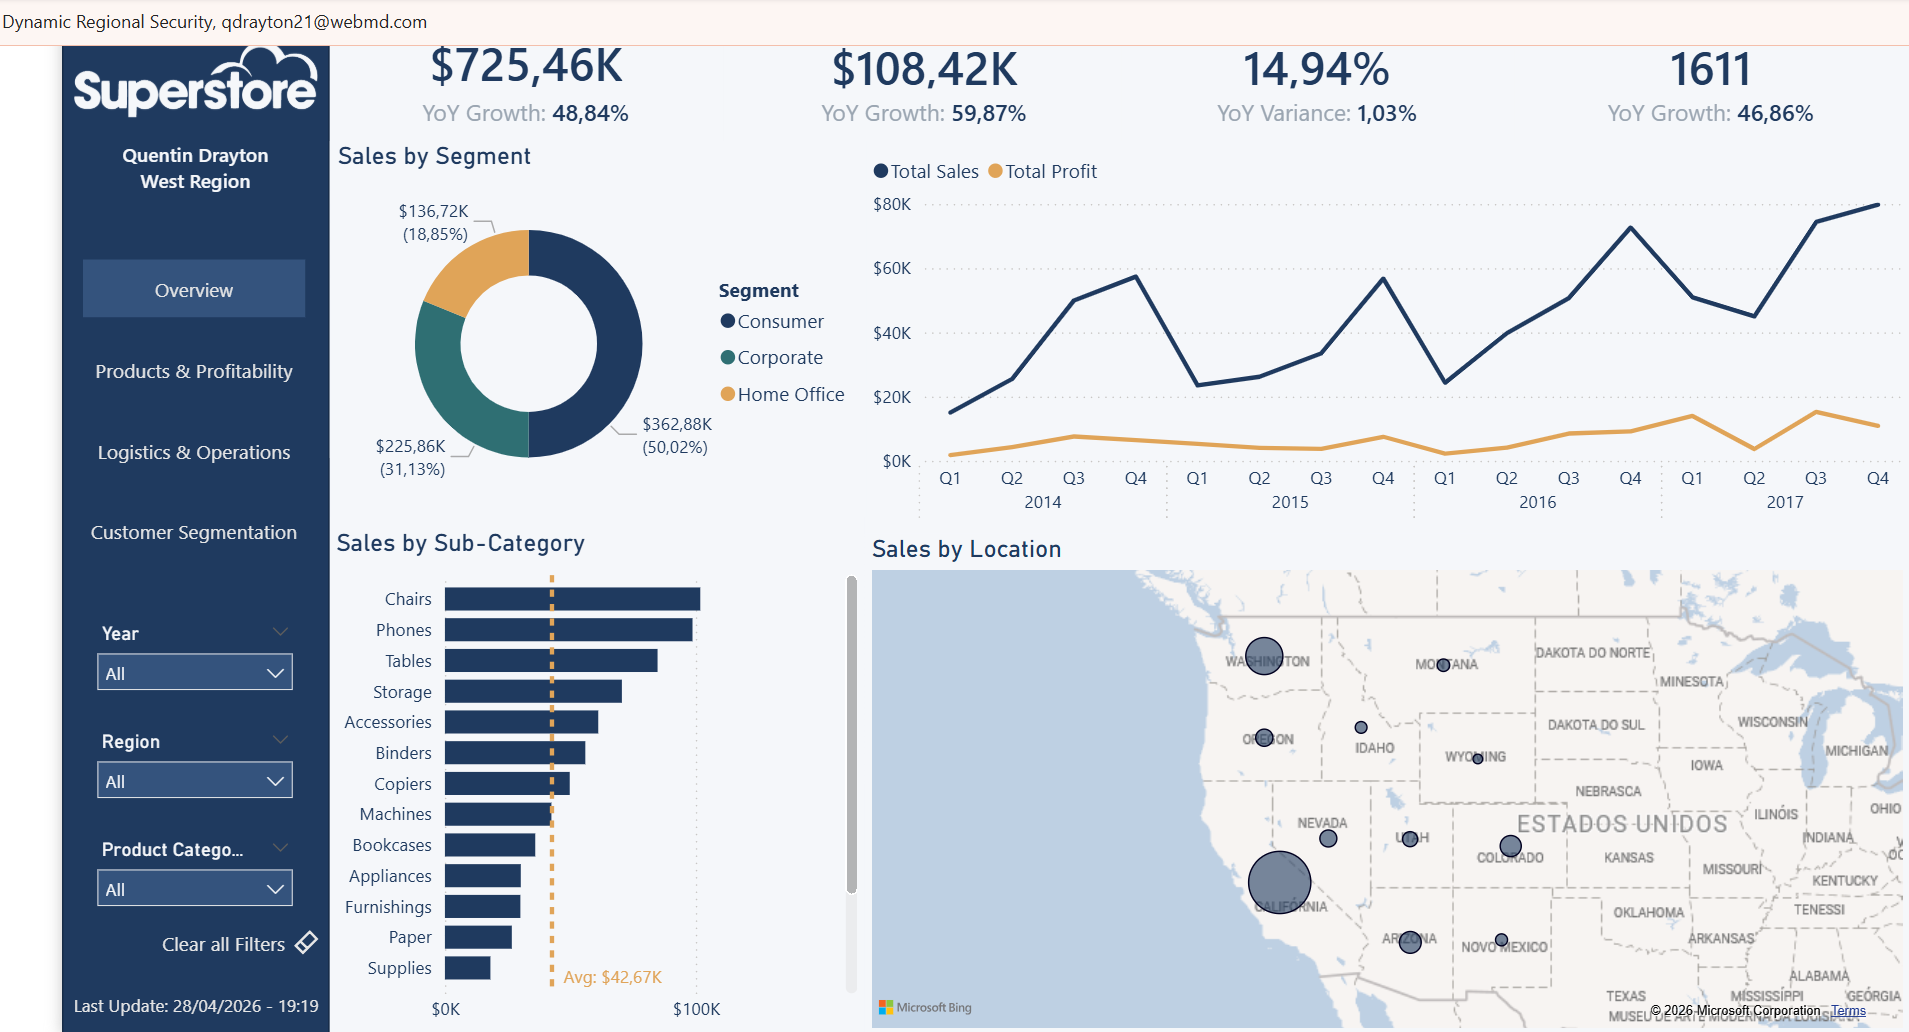

The page's visual inventory and layout, read from the dashboard file:
{"tool":"powerbi","page":{"name":"Overview","canvas":[1280,720],"ordinal":0},"visuals":[{"type":"cardVisual","title":"Total Sales","fields":{"Data":["_Measures.Total Sales"]},"box":[185.4,0,273,127.5],"z":0},{"type":"cardVisual","fields":{"Data":["_Measures.Total Orders"]},"box":[1006.6,0,273.9,127.8],"z":1000},{"type":"cardVisual","fields":{"Data":["_Measures.Profit Margin %"]},"box":[733.9,0,272.6,127.8],"z":2000},{"type":"cardVisual","fields":{"Data":["_Measures.Total Profit"]},"box":[461.3,0,272.6,127.8],"z":3000},{"type":"lineChart","title":"Total Sales and Profit by Year","fields":{"Y":["_Measures.Total Sales","_Measures.Total Profit"],"Category":["dim_order_dates.Order Date Hierarchy.Year","dim_order_dates.Order Date Hierarchy.Quarter","dim_order_dates.Order Date Hierarchy.Month Name"]},"box":[556.2,99.7,724.2,272.3],"z":4000},{"type":"clusteredBarChart","title":"Sales by Sub-Category","fields":{"Y":["_Measures.Total Sales"],"Category":["dim_products.Sub-Category"]},"box":[185.4,368.5,370.8,351.1],"z":5000},{"type":"map","title":"Sales by Location","fields":{"Size":["_Measures.Total Sales"],"Category":["dim_geo_ship.Country","dim_geo_ship.State","dim_geo_ship.City Search String"]},"box":[556.2,372,724.2,347.6],"z":6000},{"type":"shape","box":[0,0,185.4,719.6],"z":7000},{"type":"donutChart","title":"Sales by Segment","fields":{"Category":["dim_customers.Segment"],"Y":["_Measures.Total Sales"]},"box":[186,99.8,371.1,260.9],"z":8000},{"type":"slicer","fields":{"Values":["dim_geo_ship.Region"]},"box":[14.6,503.3,155.3,60],"z":9000},{"type":"slicer","fields":{"Values":["dim_shipping_dates.Year"]},"box":[14.6,428.3,155.3,60],"z":10000},{"type":"slicer","fields":{"Values":["dim_products.Category"]},"box":[14.6,578.3,155.3,60],"z":11000},{"type":"image","box":[8.3,11.4,169.4,90.4],"z":12000},{"type":"cardVisual","fields":{"Data":["_Measures.Active User Territory"]},"box":[0,88.4,185,56.1],"z":13000},{"type":"actionButton","box":[65.5,641.4,119.5,28.1],"z":14000},{"type":"pageNavigator","box":[14.6,181.9,154.9,208.9],"z":15000},{"type":"cardVisual","fields":{"Data":["_Measures.Data Vintage"]},"box":[0,675.7,186.1,44.7],"z":16000}]}

Visuals, with their boxes on the page's 1280x720 design canvas (x1, y1, x2, y2). These are canvas units, not pixel positions in the 1909x1032 screenshot, which may show the page scaled, cropped or inside an application window:
"Total Sales" cardVisual: (185,0,458,128)
cardVisual - _Measures.Total Orders: (1007,0,1280,128)
cardVisual - _Measures.Profit Margin %: (734,0,1006,128)
cardVisual - _Measures.Total Profit: (461,0,734,128)
"Total Sales and Profit by Year" lineChart: (556,100,1280,372)
"Sales by Sub-Category" clusteredBarChart: (185,368,556,720)
"Sales by Location" map: (556,372,1280,720)
shape: (0,0,185,720)
"Sales by Segment" donutChart: (186,100,557,361)
slicer - dim_geo_ship.Region: (15,503,170,563)
slicer - dim_shipping_dates.Year: (15,428,170,488)
slicer - dim_products.Category: (15,578,170,638)
image: (8,11,178,102)
cardVisual - _Measures.Active User Territory: (0,88,185,144)
actionButton: (66,641,185,670)
pageNavigator: (15,182,170,391)
cardVisual - _Measures.Data Vintage: (0,676,186,720)
